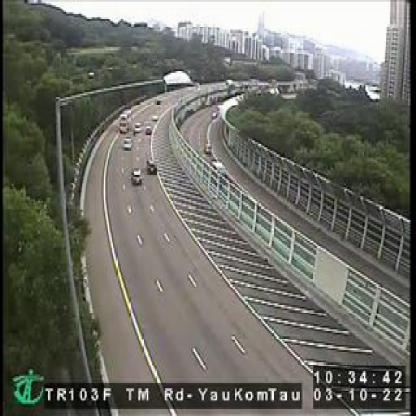Car: (130, 166, 142, 184), (146, 158, 156, 173), (122, 137, 132, 151), (204, 139, 211, 154), (145, 122, 150, 134), (136, 122, 140, 134)
Truck: (117, 109, 133, 132)
